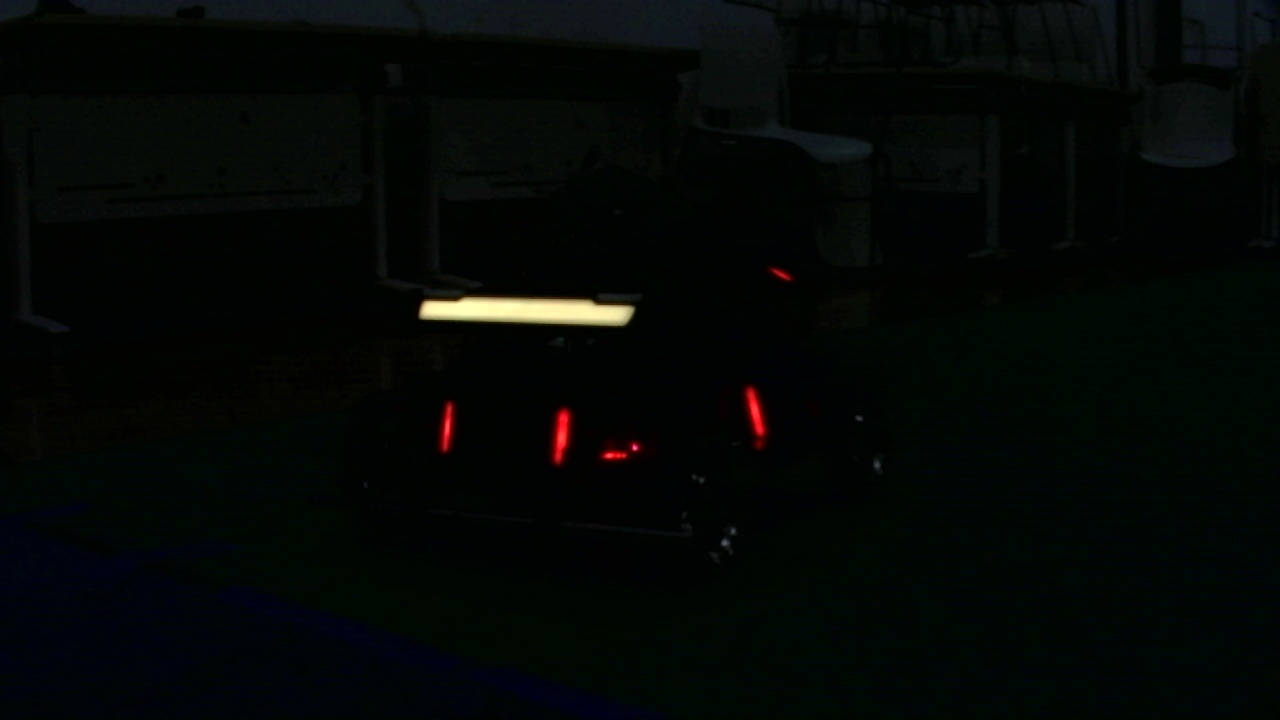lamp: (549, 396, 572, 465), (744, 385, 768, 450), (436, 396, 456, 463)
notpair1: (546, 386, 766, 471)
pair1: (437, 399, 569, 464)
